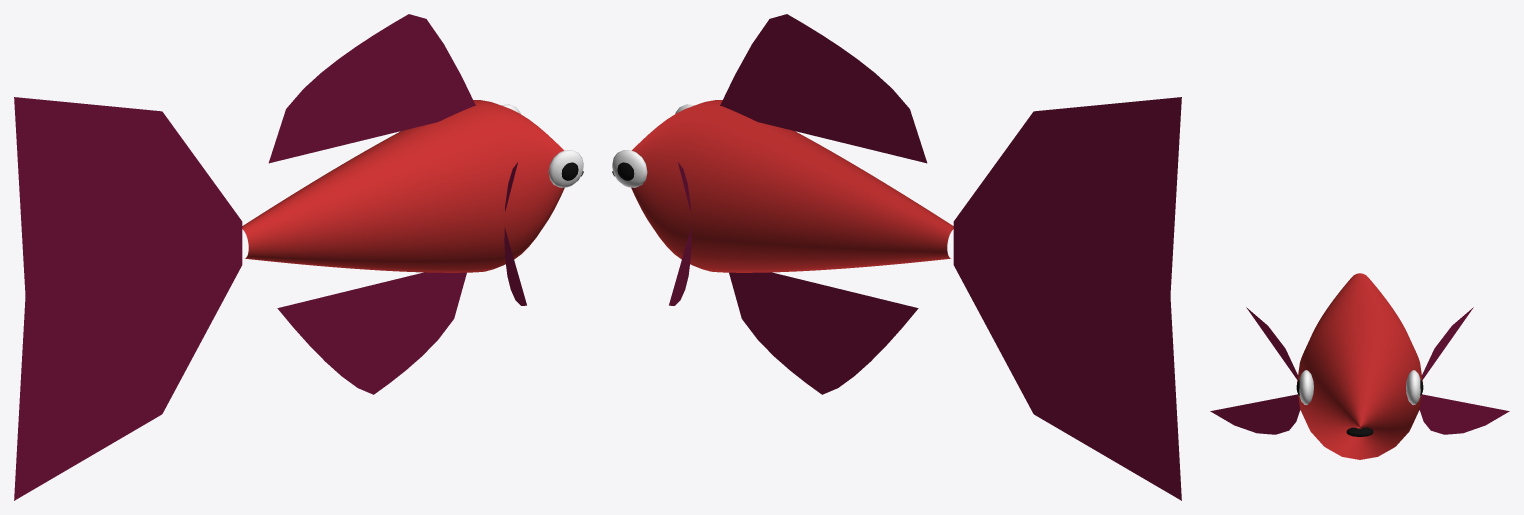
Rendered from betta.glb.
3 renders of one model, left to right at view 1: azimuth 30°, elevation 25°; view 2: azimuth 150°, elevation 25°; view 3: azimuth 270°, elevation 25°, orthographic. The views are drawn at different scales.
Visible parts, largest first — view 1: betta; view 2: betta; view 3: betta.
Part boxes in pixels (left/top/right/bottom): betta: left=14, top=14, right=583, bottom=500; betta: left=612, top=14, right=1181, bottom=500; betta: left=1210, top=273, right=1509, bottom=459.
Size of the model in its own units: 1.62 by 1.1 by 0.8529.
